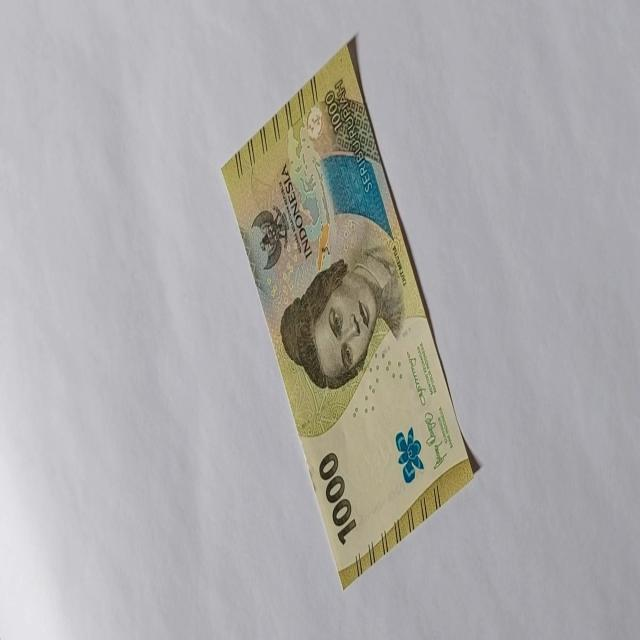seribu rupiah kertas: (220, 38, 474, 590)
